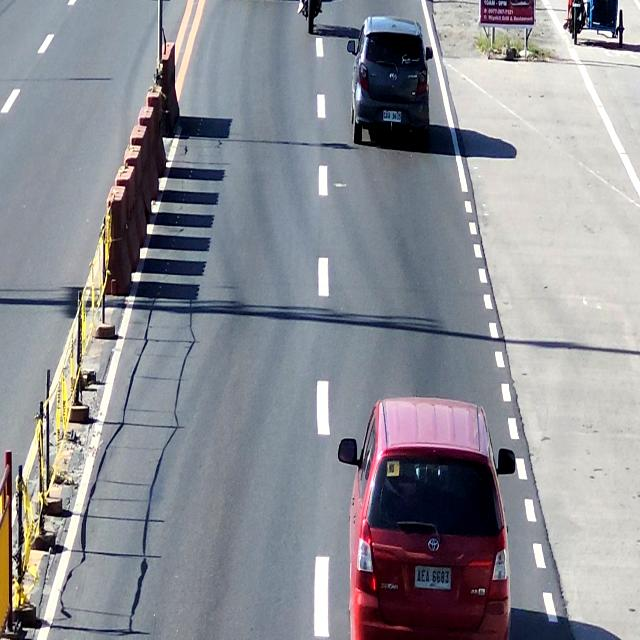Car: (350, 398, 514, 640), (350, 13, 436, 152)
License-Plate: (412, 560, 458, 596), (380, 108, 402, 126)
Motorcycle: (300, 0, 324, 33)
